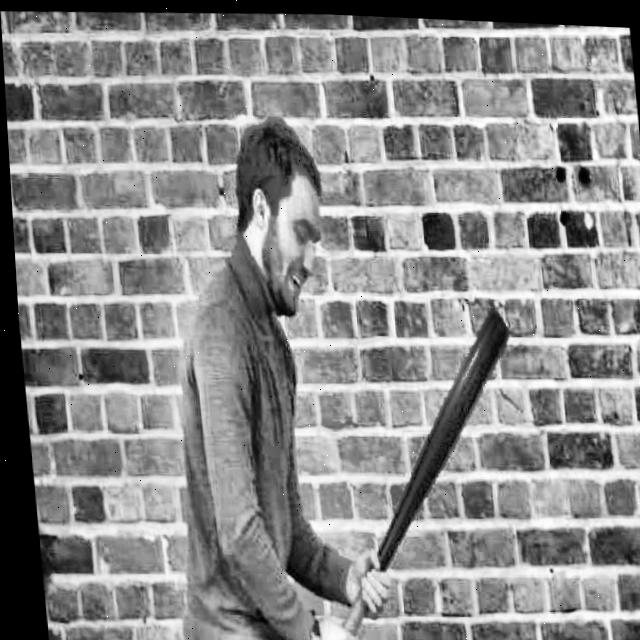tongkat pemukul: (312, 300, 523, 640)
